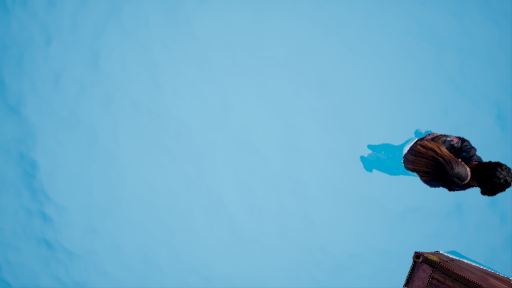person: (364, 123, 512, 206)
